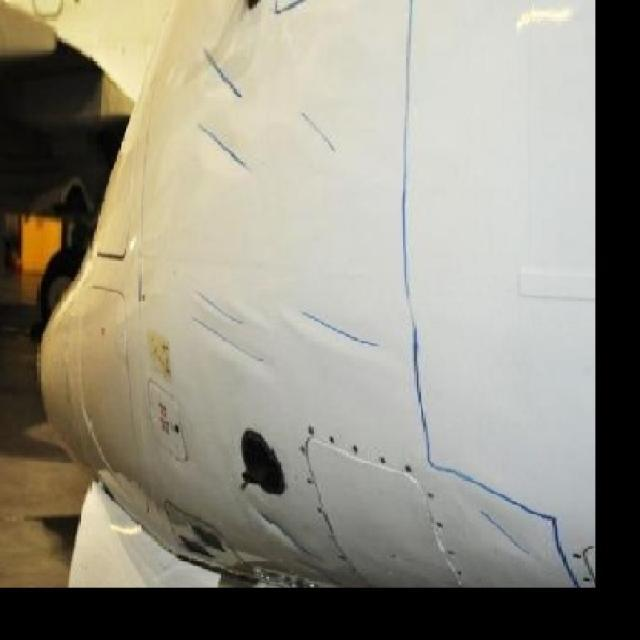dent: (481, 504, 541, 566), (194, 321, 263, 366), (306, 313, 384, 344), (266, 509, 314, 558), (200, 124, 243, 164), (204, 52, 244, 95), (201, 289, 244, 328), (309, 112, 338, 155)
